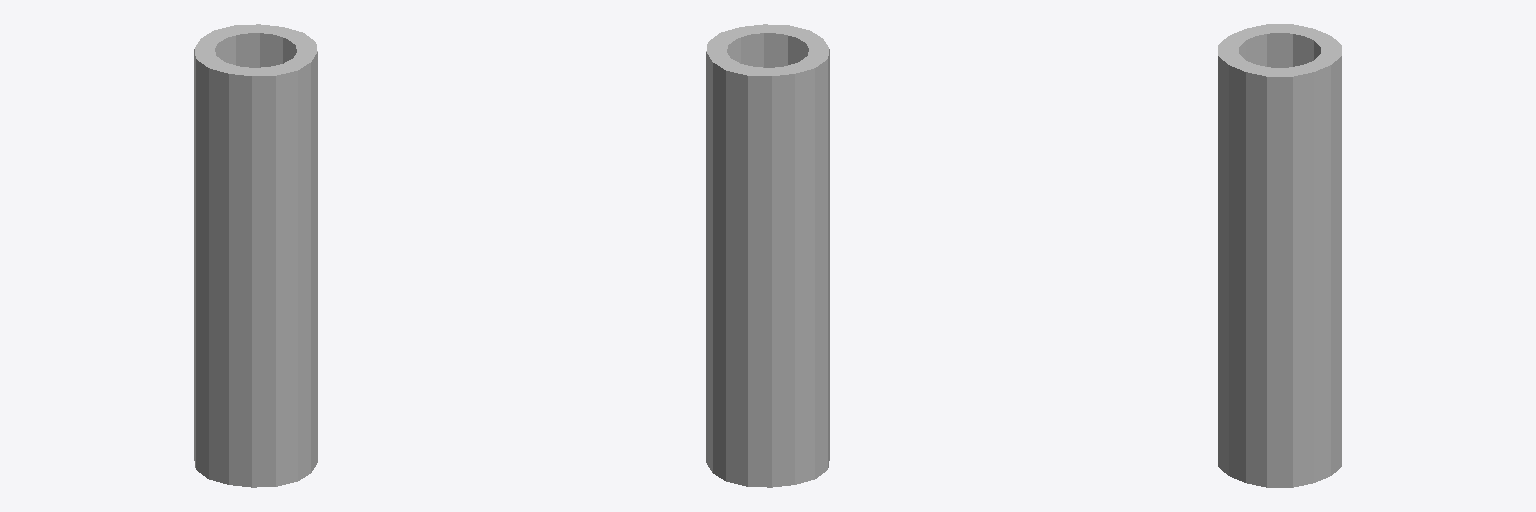
File: original-9.obj
3 renders of one model, left to right at view 1: azimuth 30°, elevation 25°; view 2: azimuth 150°, elevation 25°; view 3: azimuth 270°, elevation 25°, orthographic.
Parts seen in each view (by area): view 1: mesh8/mesh8-geometry#mesh8-geometry; view 2: mesh8/mesh8-geometry#mesh8-geometry; view 3: mesh8/mesh8-geometry#mesh8-geometry.
Boxes of the visible parts, box(x1,y1,x2,y2) form: mesh8/mesh8-geometry#mesh8-geometry: box(194, 24, 317, 487); mesh8/mesh8-geometry#mesh8-geometry: box(706, 24, 829, 487); mesh8/mesh8-geometry#mesh8-geometry: box(1218, 24, 1341, 487).
Bounding box in the file's own units: 0.0832 × 0.3042 × 0.0832.